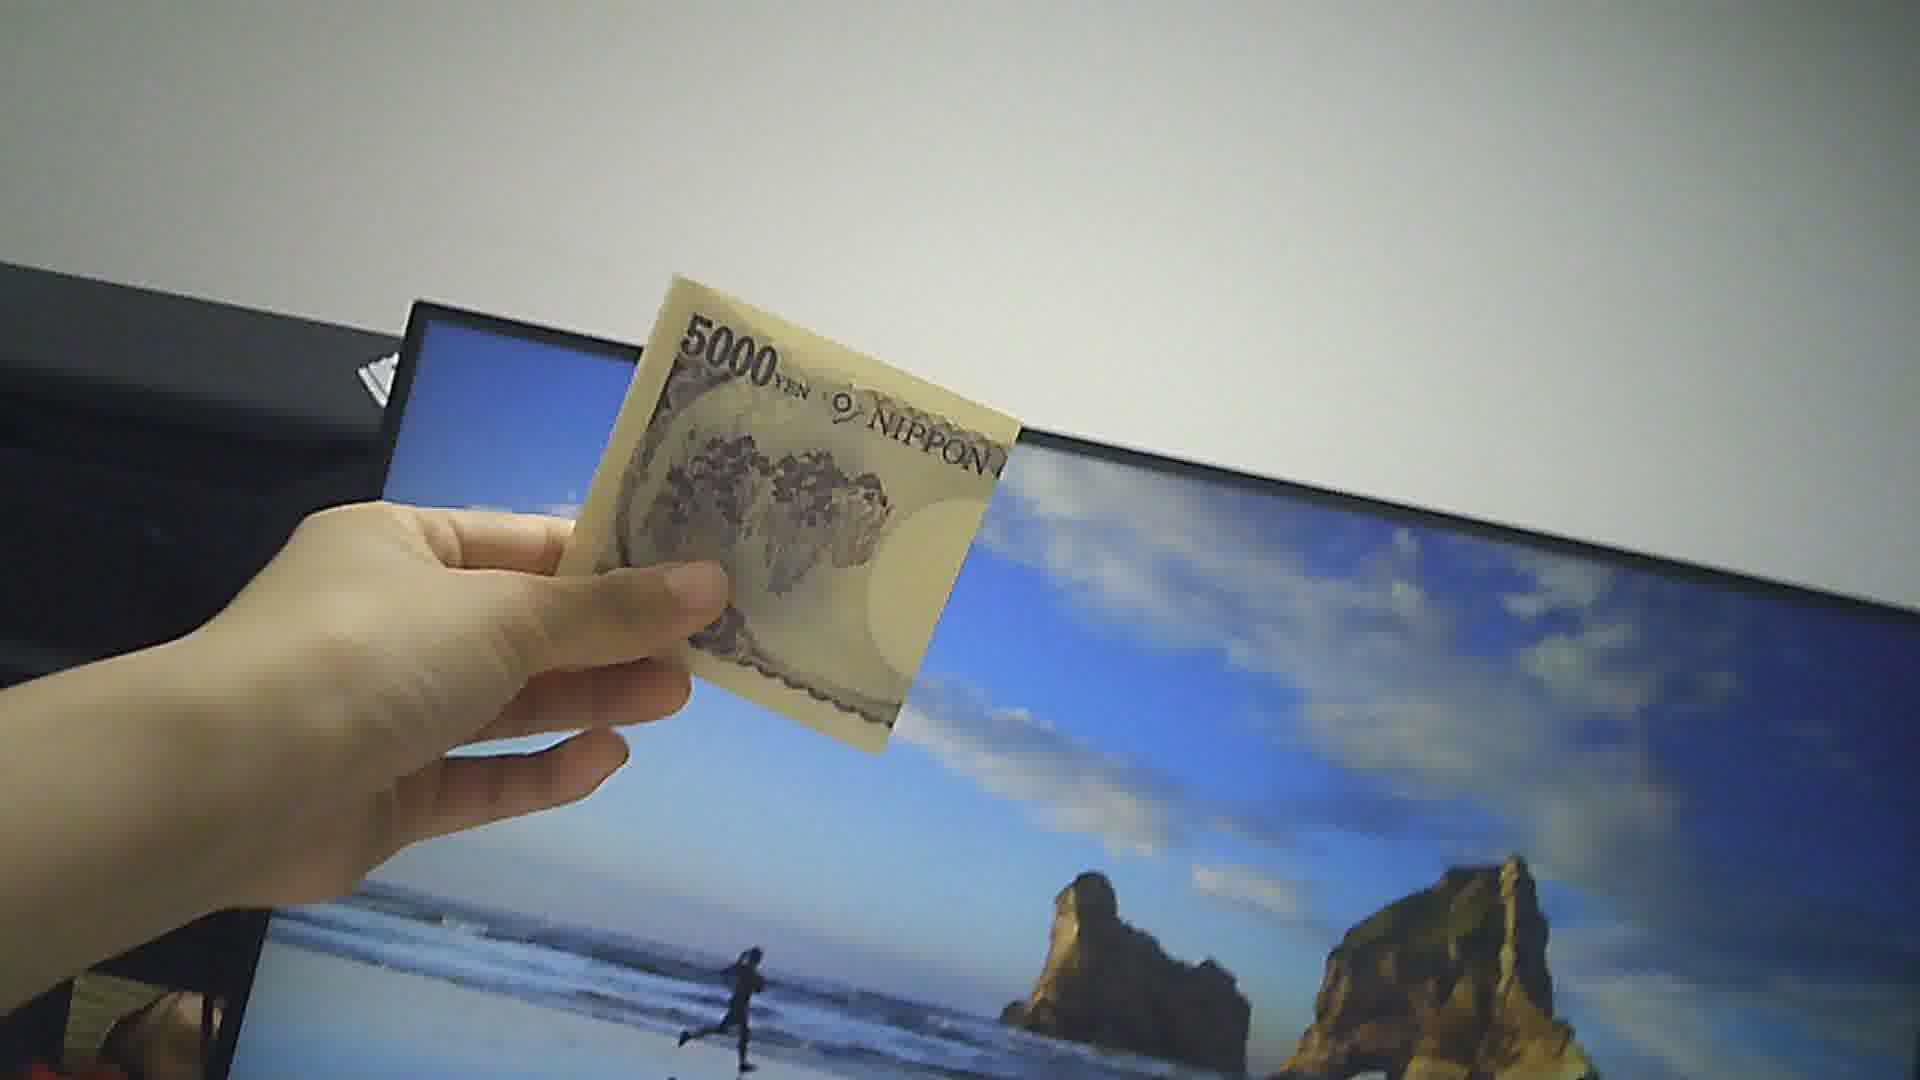5,000 Yen: (555, 247, 1015, 745)
